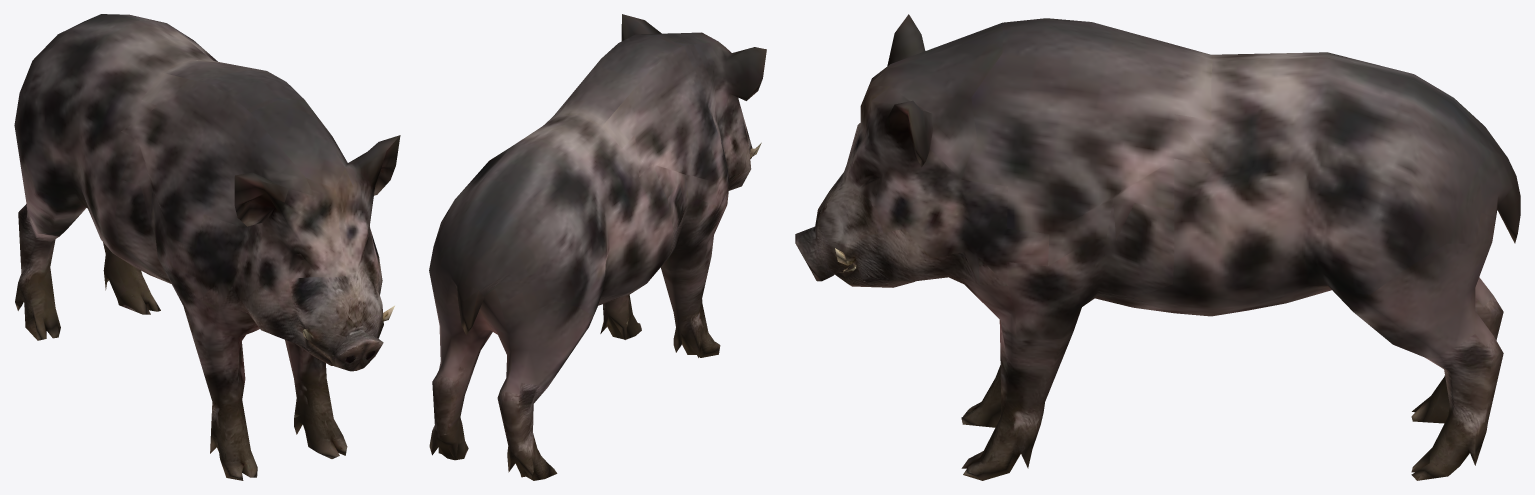
Rendered from javaporco_malhado_lod.glb.
The picture shows the model from 3 angles, left to right: view 1: azimuth 30°, elevation 25°; view 2: azimuth 150°, elevation 25°; view 3: azimuth 270°, elevation 25°; orthographic projection. The views are drawn at different scales.
Visible parts, largest first — view 1: Javaporco malhado; view 2: Javaporco malhado; view 3: Javaporco malhado.
Boxes of the visible parts, x1,y1,x2,y2 form: Javaporco malhado: (14, 14, 400, 480); Javaporco malhado: (429, 14, 766, 480); Javaporco malhado: (795, 14, 1520, 480).
Bounding box in the file's own units: 0.3301 × 0.6387 × 0.998.
Materials: 1 (1 with a texture image).
